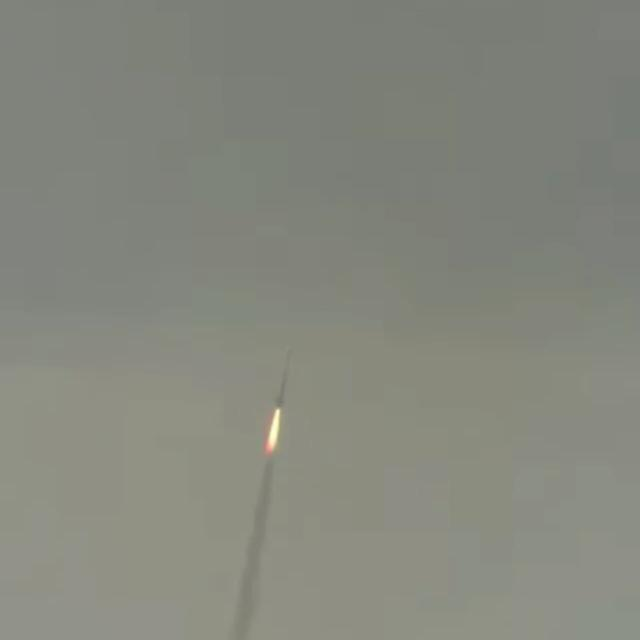smoke_trail_with_rocket: (230, 357, 291, 640)
